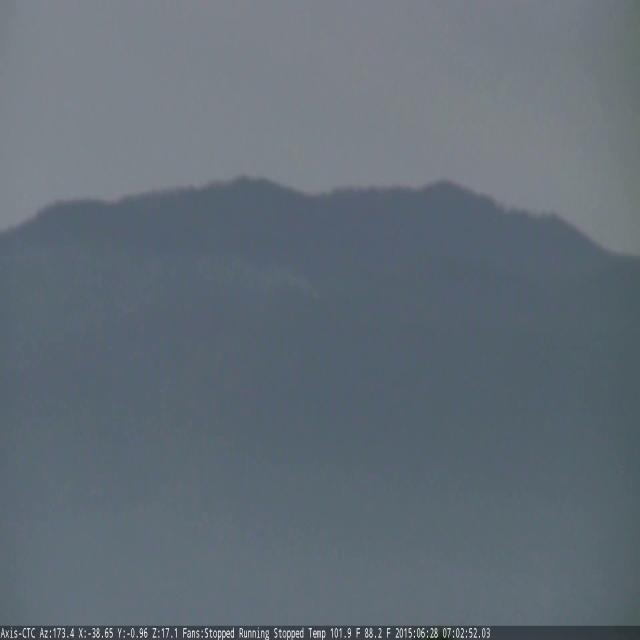smoke: (190, 253, 323, 303)
